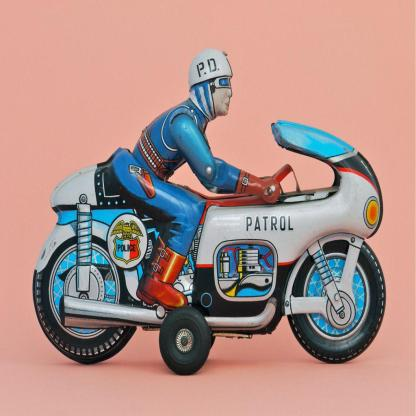Helmet: (188, 48, 234, 120)
